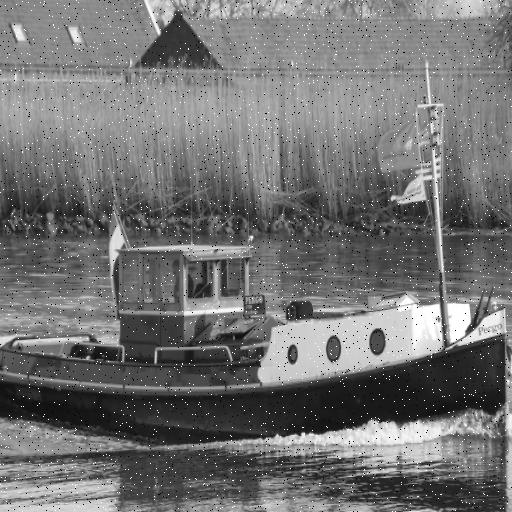tugboat: (1, 229, 512, 458)
